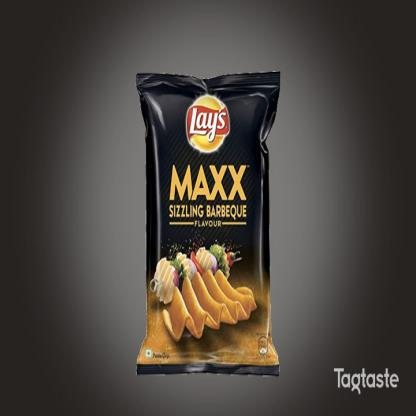maxx_sizzling_barbeque: (134, 71, 279, 375)
